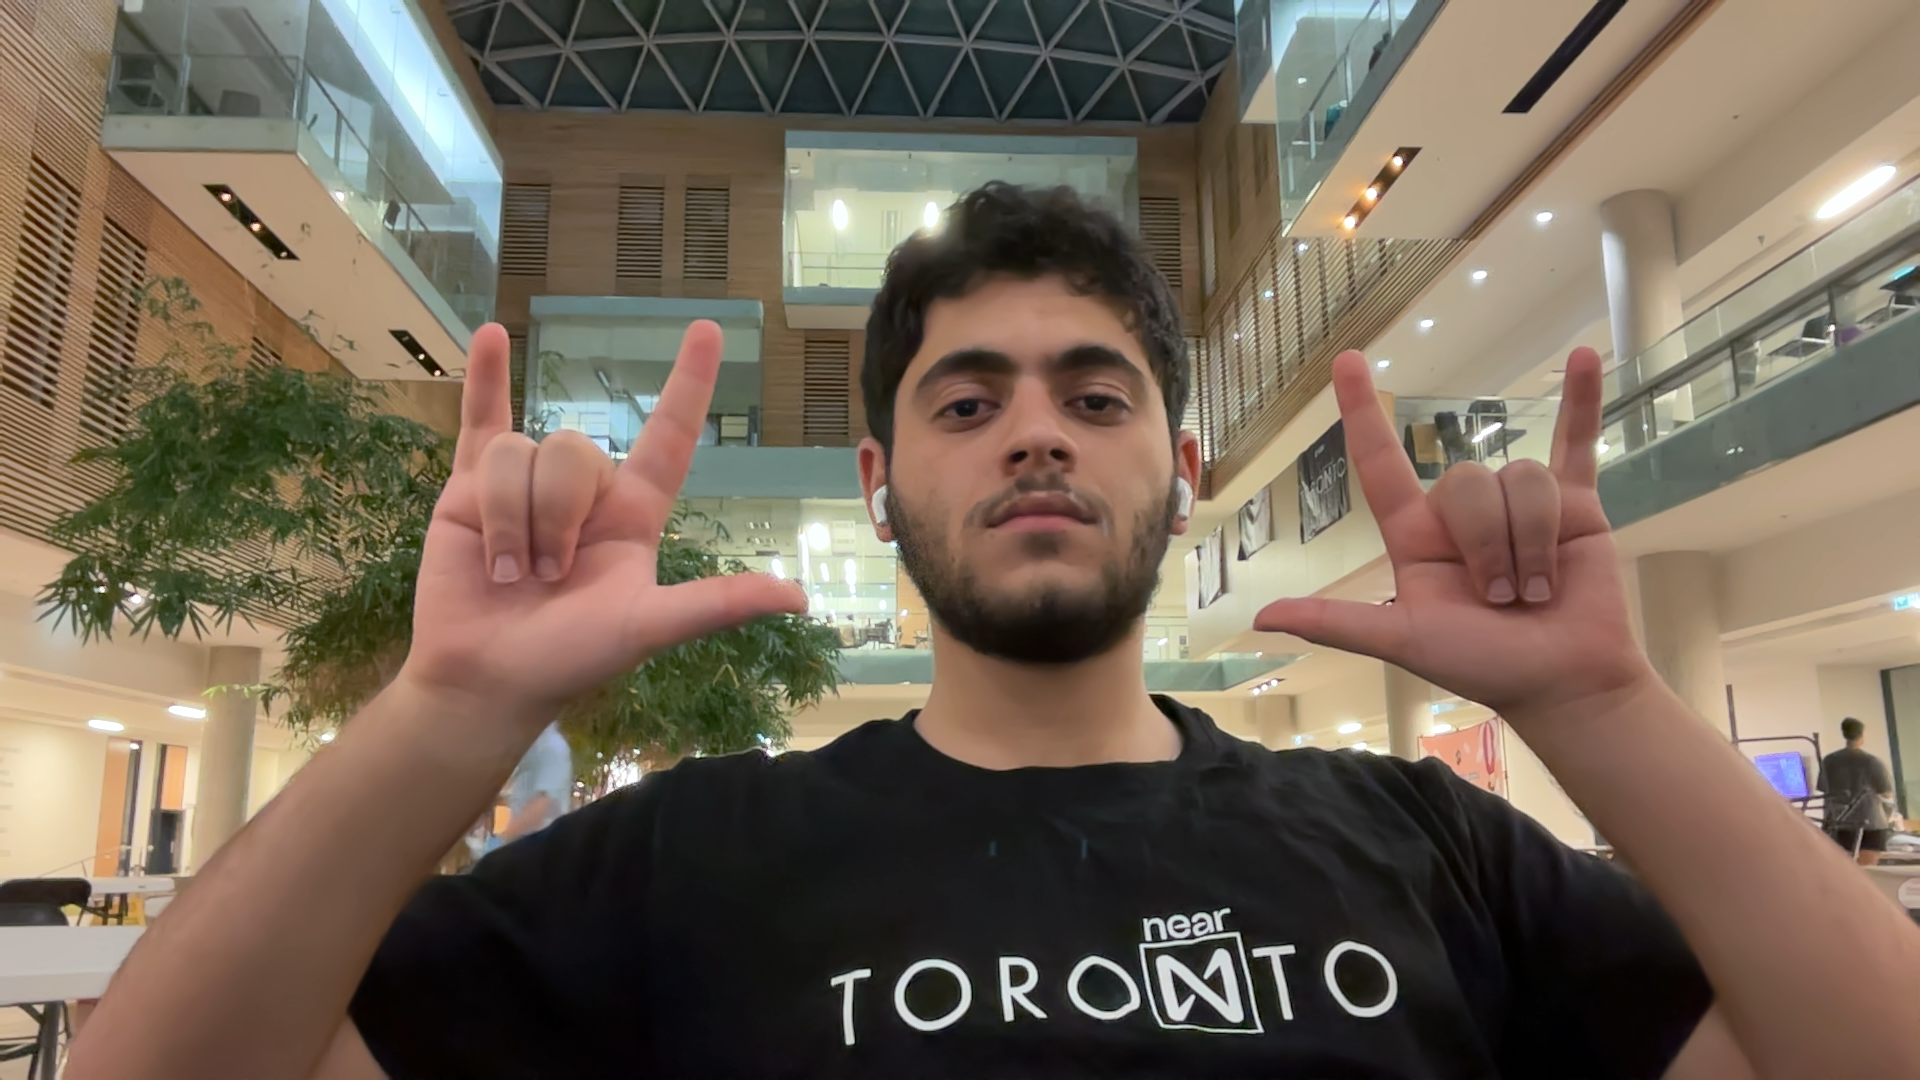i love you: (392, 273, 832, 704), (1221, 313, 1706, 694)
